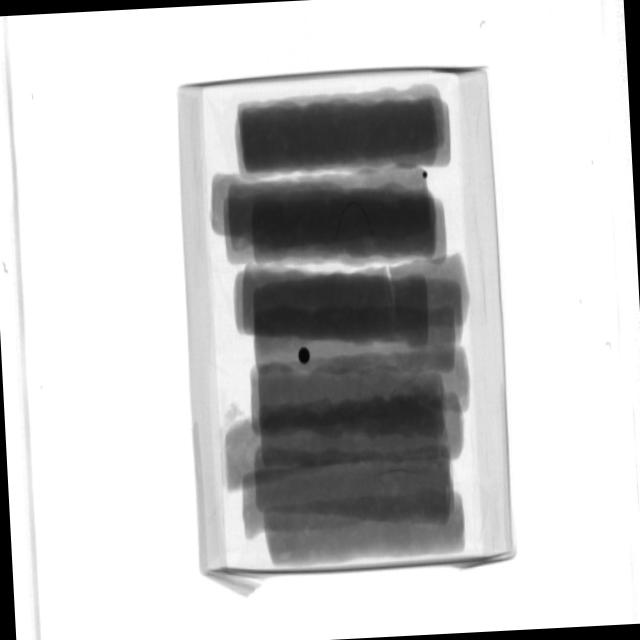ym: (299, 347, 312, 365), (423, 172, 430, 180)
